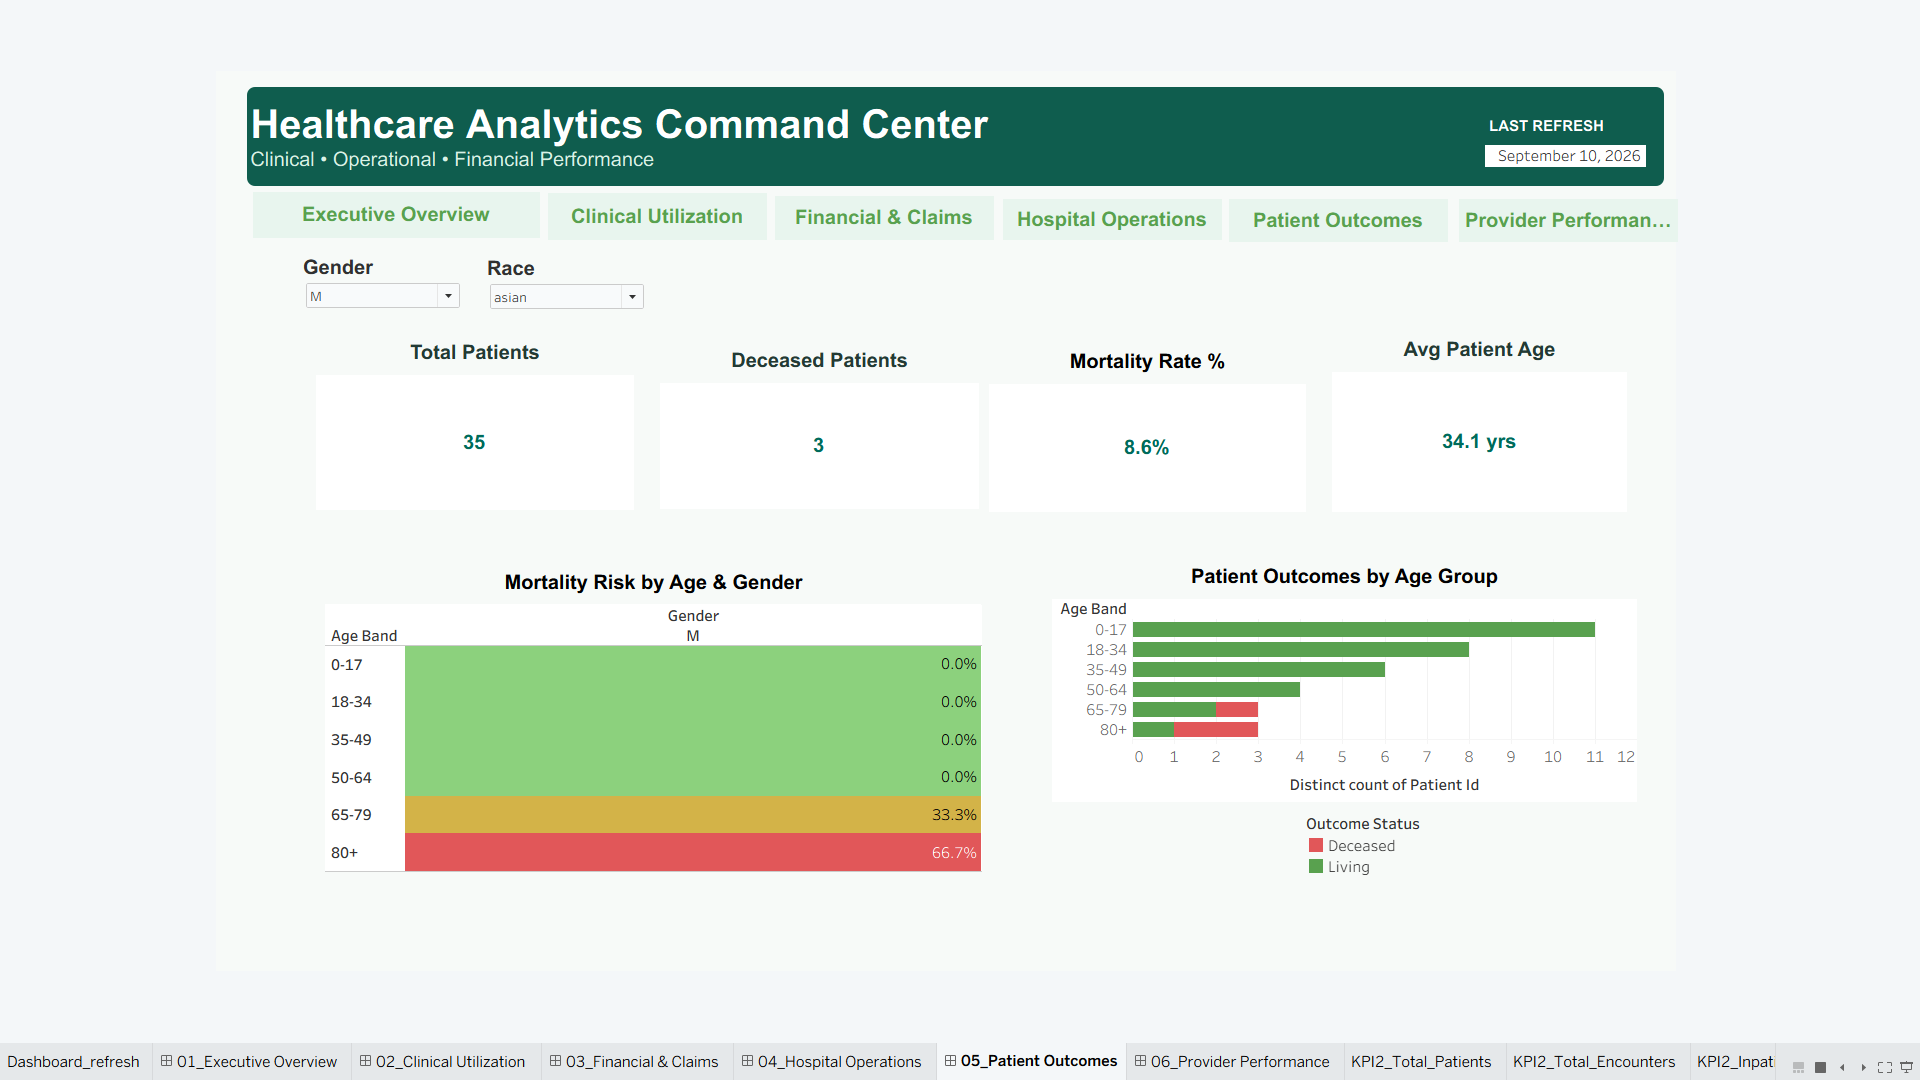

This screenshot's page, from the dashboard's own definition file:
{"tool":"tableau","page":{"name":"05_Patient Outcomes","canvas":[1440,900],"ordinal":4},"visuals":[{"type":"text","box":[3,12,1425,107]},{"type":"dashboard-object","box":[13,121,287,46]},{"type":"dashboard-object","box":[308,122,219,47]},{"type":"dashboard-object","box":[535,125,219,44]},{"type":"dashboard-object","box":[763,128,219,41]},{"type":"dashboard-object","box":[989,128,219,43]},{"type":"dashboard-object","box":[1219,128,219,43]},{"type":"filter","title":"OUT_CHT_Mortality_Risk","param":"[federated.0cya20608p92mh1h95nhi08e36id].[none:gender:nk]","box":[63,185,160,71]},{"type":"filter","title":"OUT_CHT_Outcome_Composition","param":"[federated.0cya20608p92mh1h95nhi08e36id].[none:race:nk]","box":[247,186,160,189]},{"type":"worksheet","title":"OUT_KPI_Avg_Age","mark":"Automatic","box":[1092,263,295,178]},{"type":"worksheet","title":"OUT_KPI_Total_Patients","mark":"Automatic","box":[76,266,318,173]},{"type":"worksheet","title":"OUT_KPI_Deceased_Patients","mark":"Automatic","box":[420,274,319,164]},{"type":"worksheet","title":"OUT_KPI_Mortality_Rate","mark":"Automatic","box":[749,275,317,166]},{"type":"worksheet","title":"OUT_CHT_Outcome_Composition","mark":"Bar","rows":["age_band"],"cols":["patient_id"],"box":[812,490,585,342]},{"type":"worksheet","title":"OUT_CHT_Mortality_Risk","mark":"Square","rows":["age_band"],"cols":["gender"],"box":[85,496,657,305]},{"type":"legend","title":"OUT_CHT_Outcome_Composition","param":"[federated.0cya20608p92mh1h95nhi08e36id].[none:Calculation_0280968791941144:nk]","box":[1066,742,140,64]}]}

Visuals, with their boxes on the page's 1440x900 design canvas (x1, y1, x2, y2). These are canvas units, not pixel positions in the 1920x1080 screenshot, which may show the page scaled, cropped or inside an application window:
text: <bbox>3, 12, 1428, 119</bbox>
dashboard-object: <bbox>13, 121, 300, 167</bbox>
dashboard-object: <bbox>308, 122, 527, 169</bbox>
dashboard-object: <bbox>535, 125, 754, 169</bbox>
dashboard-object: <bbox>763, 128, 982, 169</bbox>
dashboard-object: <bbox>989, 128, 1208, 171</bbox>
dashboard-object: <bbox>1219, 128, 1438, 171</bbox>
"OUT_CHT_Mortality_Risk" filter: <bbox>63, 185, 223, 256</bbox>
"OUT_CHT_Outcome_Composition" filter: <bbox>247, 186, 407, 375</bbox>
"OUT_KPI_Avg_Age" worksheet: <bbox>1092, 263, 1387, 441</bbox>
"OUT_KPI_Total_Patients" worksheet: <bbox>76, 266, 394, 439</bbox>
"OUT_KPI_Deceased_Patients" worksheet: <bbox>420, 274, 739, 438</bbox>
"OUT_KPI_Mortality_Rate" worksheet: <bbox>749, 275, 1066, 441</bbox>
"OUT_CHT_Outcome_Composition" worksheet (Bar marks): <bbox>812, 490, 1397, 832</bbox>
"OUT_CHT_Mortality_Risk" worksheet (Square marks): <bbox>85, 496, 742, 801</bbox>
"OUT_CHT_Outcome_Composition" legend: <bbox>1066, 742, 1206, 806</bbox>
